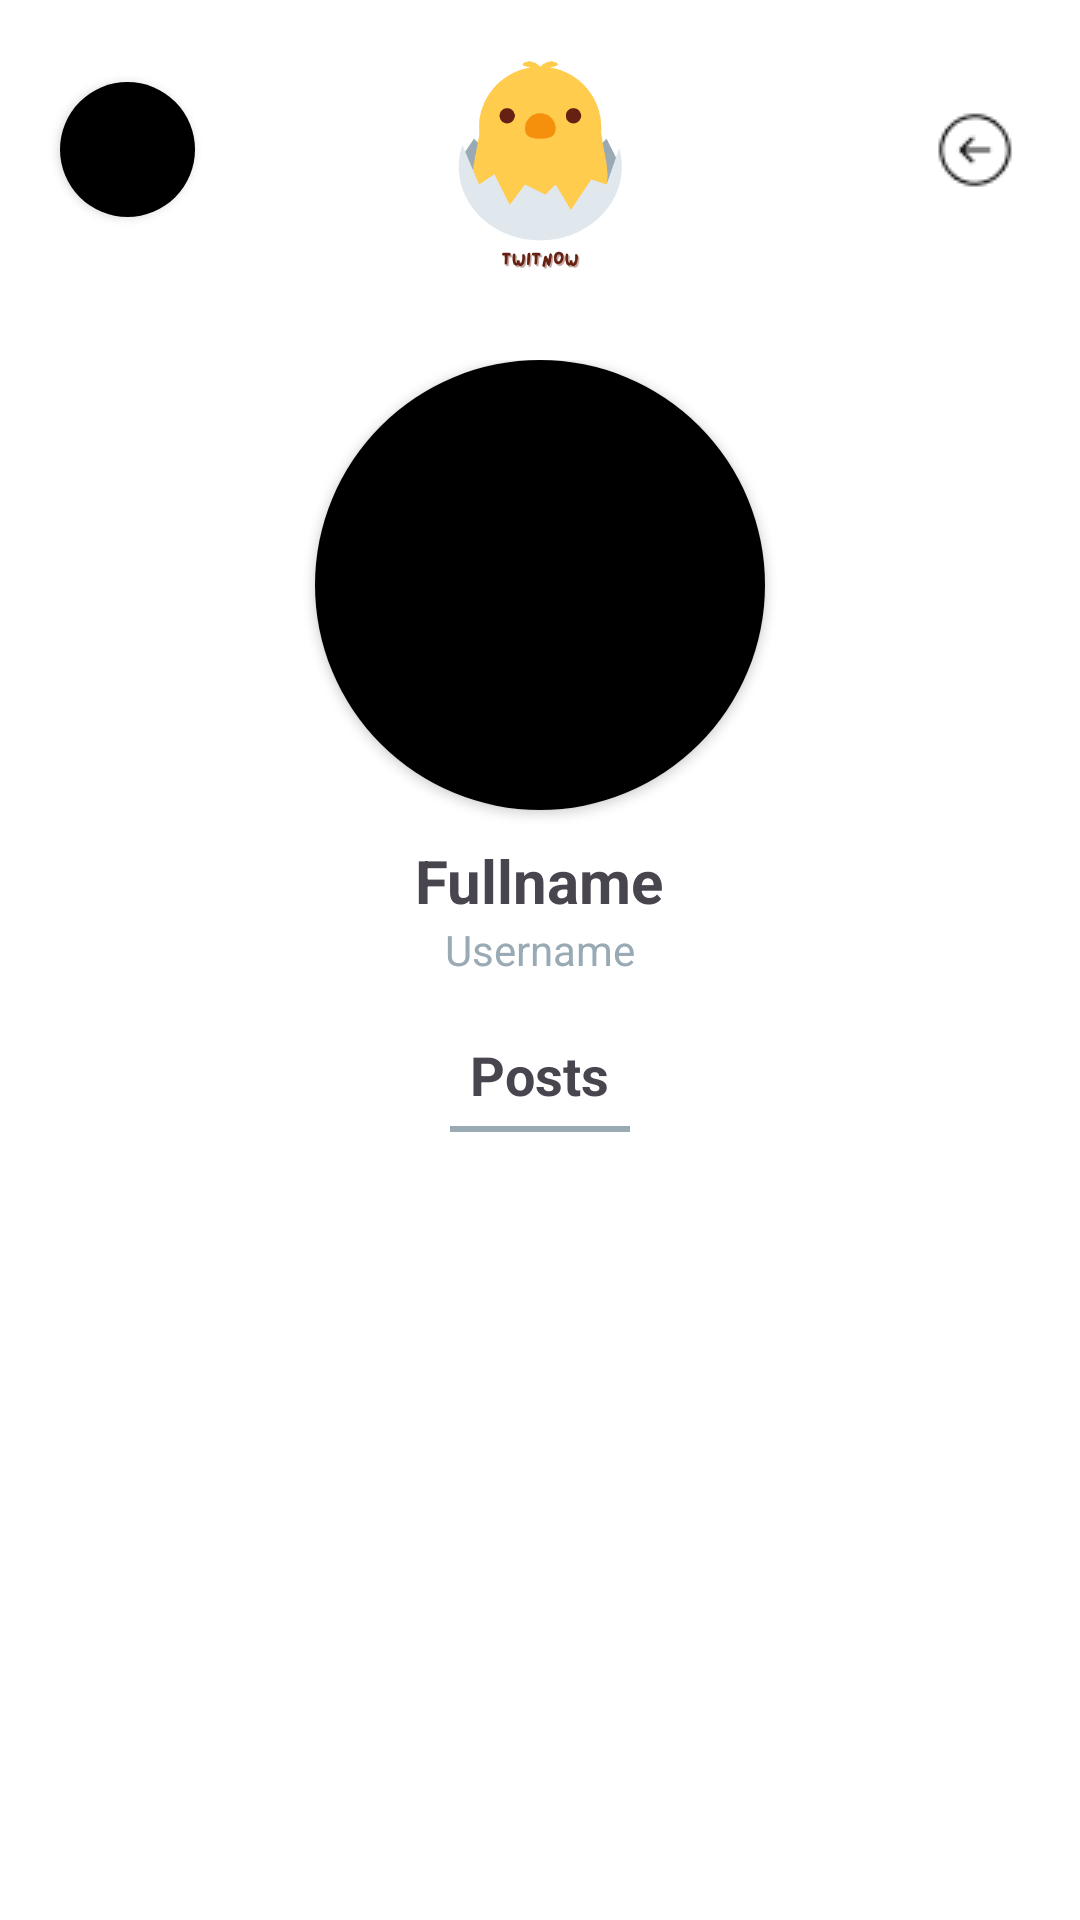

Screen size 1080 × 1920. Icon name, then its box in pixels as bbox=[x1, y1, x2, y2]:
back: bbox=[938, 113, 1012, 187]
